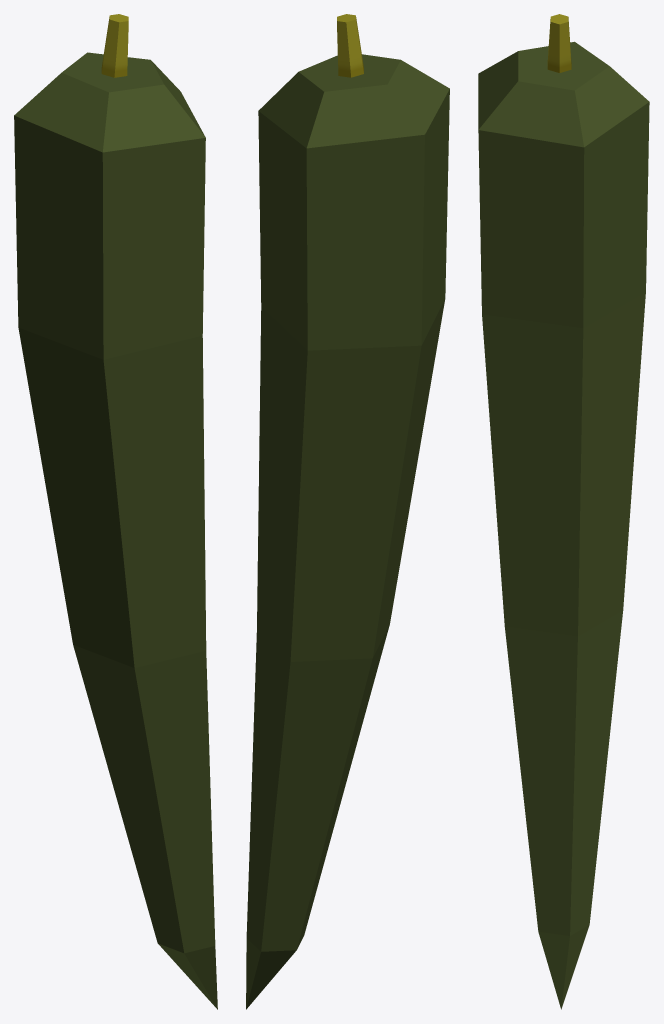
Rendered from Chilli_Green.fbx.
3 renders of one model, left to right at view 1: azimuth 30°, elevation 25°; view 2: azimuth 150°, elevation 25°; view 3: azimuth 270°, elevation 25°, orthographic. The views are drawn at different scales.
Visible parts, largest first — view 1: Chilli_Green_All, Chilli_Green_Top, Chilli_Green_Down; view 2: Chilli_Green_Top, Chilli_Green_Down, Chilli_Green_All; view 3: Chilli_Green_All, Chilli_Green_Top, Chilli_Green_Down.
Part boxes in pixels (x1,y1,x2,y2): Chilli_Green_All: [14, 14, 217, 1008]; Chilli_Green_Top: [18, 14, 205, 501]; Chilli_Green_Down: [43, 474, 217, 1009]; Chilli_Green_Top: [258, 14, 449, 494]; Chilli_Green_Down: [246, 465, 408, 1009]; Chilli_Green_All: [247, 14, 449, 1005]; Chilli_Green_All: [478, 14, 609, 1006]; Chilli_Green_Top: [478, 14, 649, 470]; Chilli_Green_Down: [492, 439, 635, 1009].
Size of the model in its own units: 2.78 by 14.09 by 2.31.
